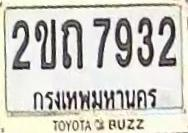2: (11, 18, 31, 69), (158, 15, 176, 67)
3: (136, 16, 154, 67)
7: (92, 17, 111, 68)
9: (114, 16, 132, 67)
A02: (34, 18, 56, 69)
A22: (60, 18, 85, 69)
BKK: (31, 85, 159, 114)
